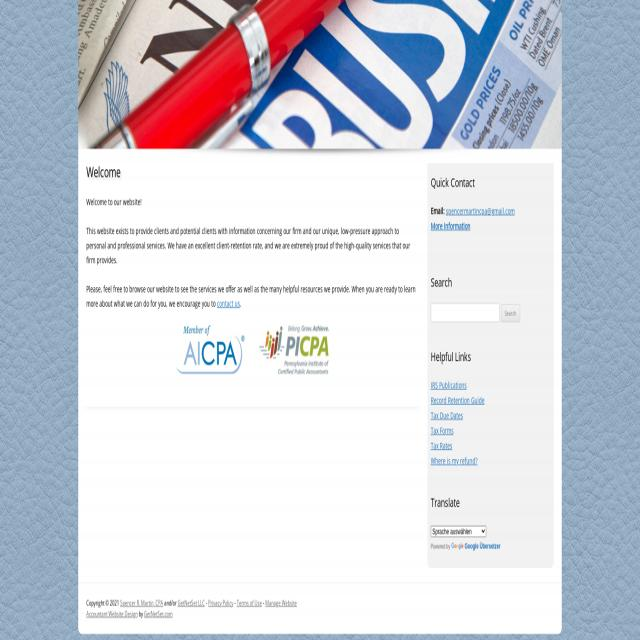button: (259, 325, 329, 374), (176, 325, 244, 374), (451, 543, 465, 551)
field: (430, 303, 500, 323), (431, 526, 486, 537), (501, 304, 520, 322)
